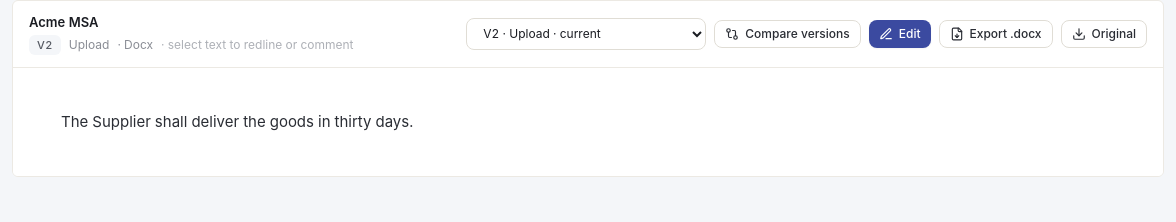
it: editing the text of a contract that is past approval › says nothing extra while the contract is still being reviewed
Click the button "Edit" at (900, 34), box left=869, top=20, right=931, bottom=48
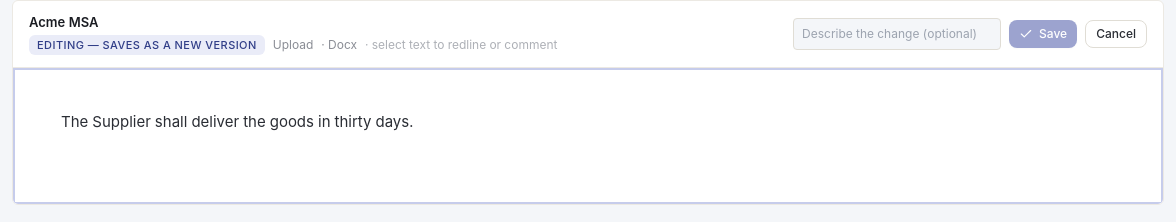
Result: the text box named "Edit contract text" is shown at left=13, top=68, right=1163, bottom=204
